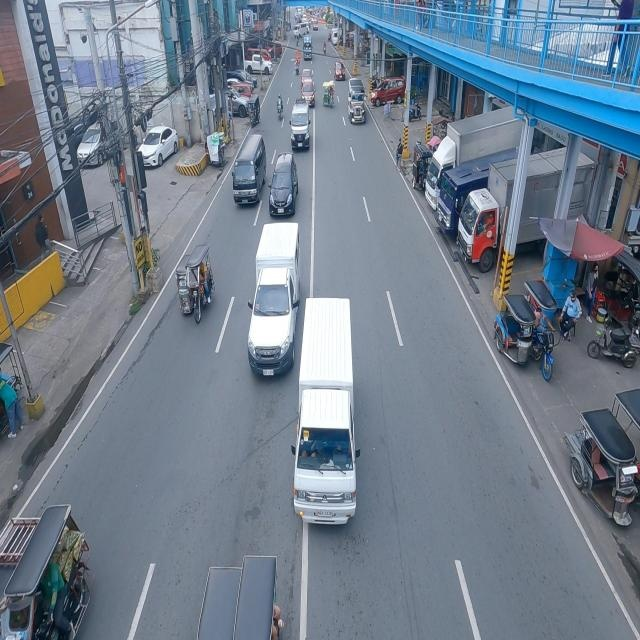Van: (294, 296, 358, 534), (248, 225, 302, 379), (234, 133, 267, 210), (290, 98, 310, 153)
